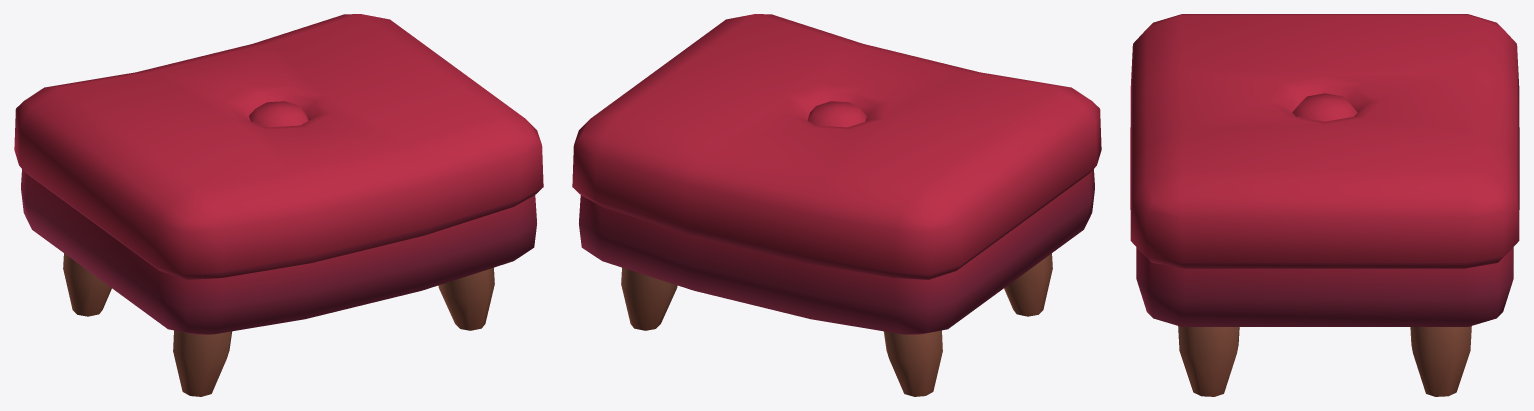
Rendered from footstool_red.glb.
The picture shows the model from 3 angles, left to right: view 1: azimuth 30°, elevation 25°; view 2: azimuth 150°, elevation 25°; view 3: azimuth 270°, elevation 25°; orthographic projection. The views are drawn at different scales.
Visible parts, largest first — view 1: footstool_red; view 2: footstool_red; view 3: footstool_red.
Part boxes in pixels (bbox=[...]): footstool_red: bbox=[14, 14, 543, 396]; footstool_red: bbox=[572, 14, 1101, 396]; footstool_red: bbox=[1130, 14, 1519, 396].
Bounding box in the file's own units: 0.8249 × 0.4445 × 0.688.
Materials: 1 (1 with a texture image).
